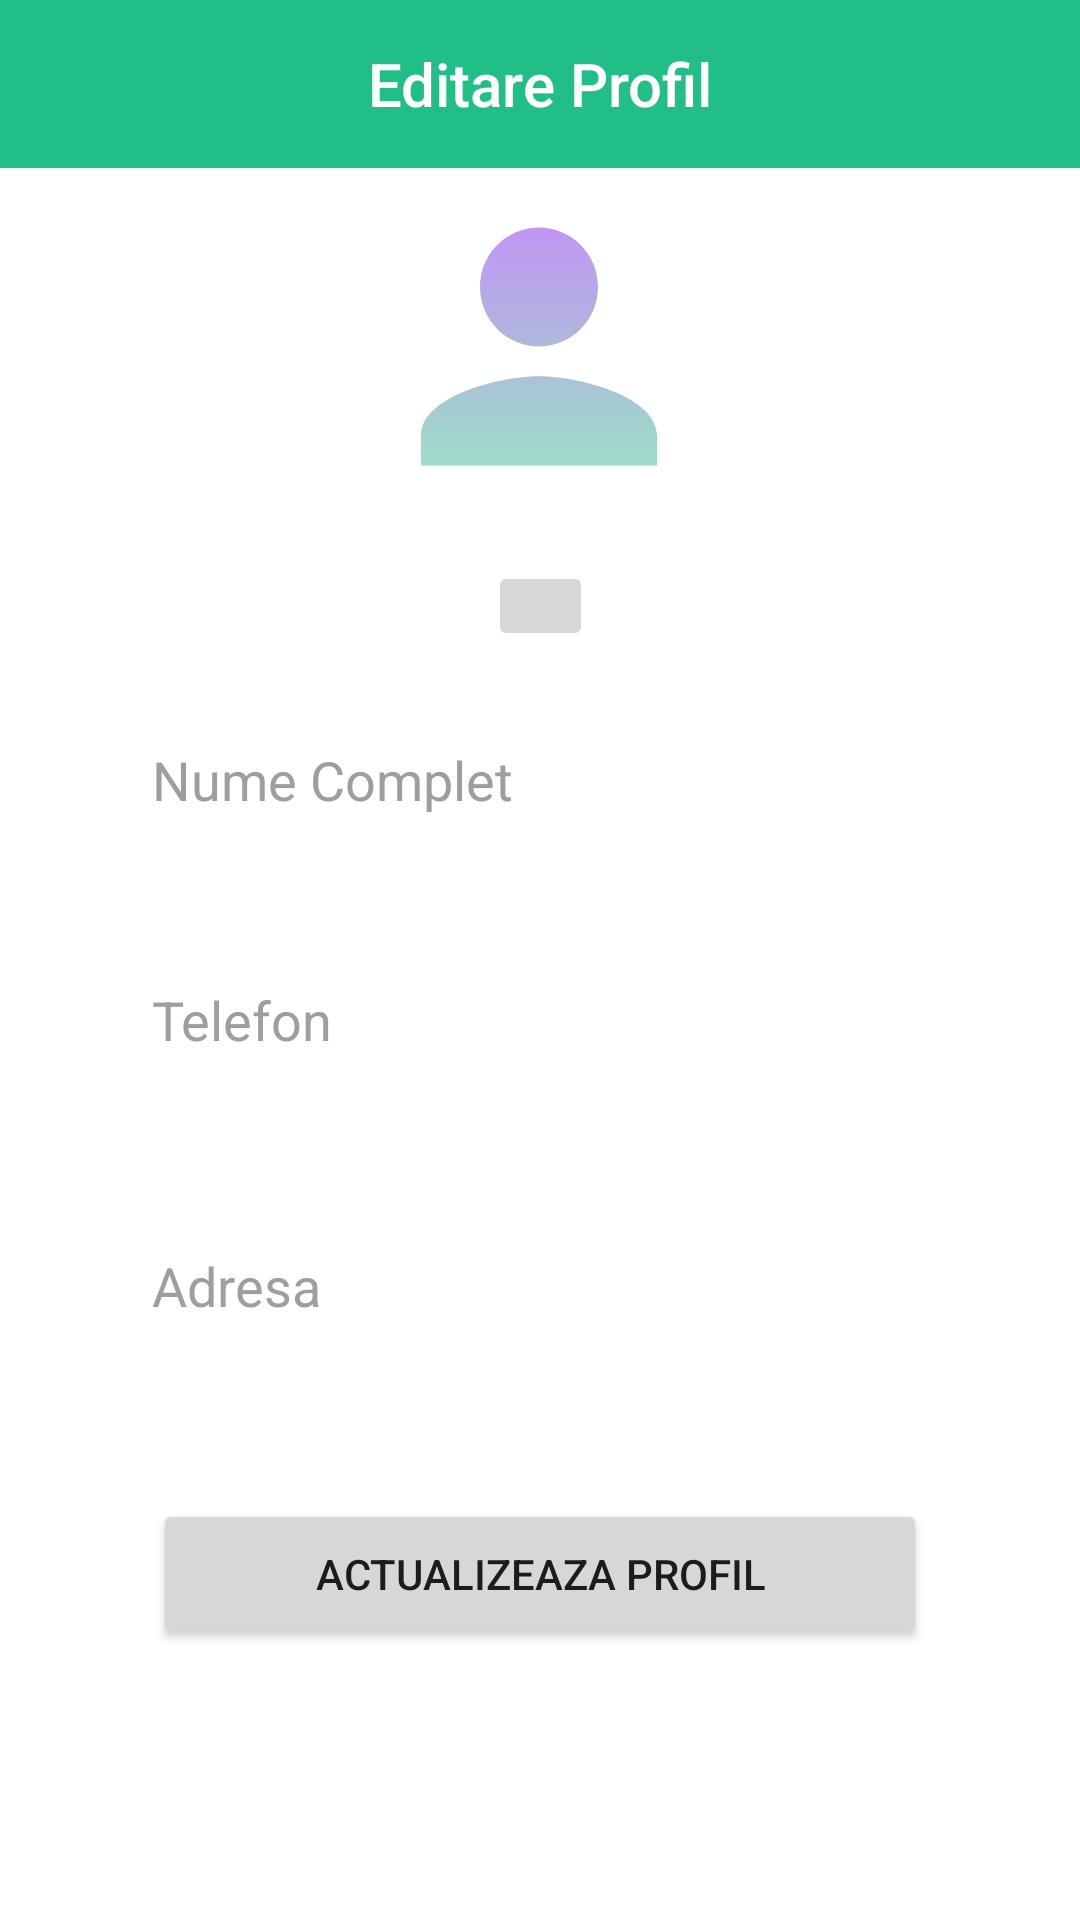

Icons on this 1080*1920 Android screen, each with its box as (x1, y1, x2, y2):
person: (421, 227, 657, 466)
